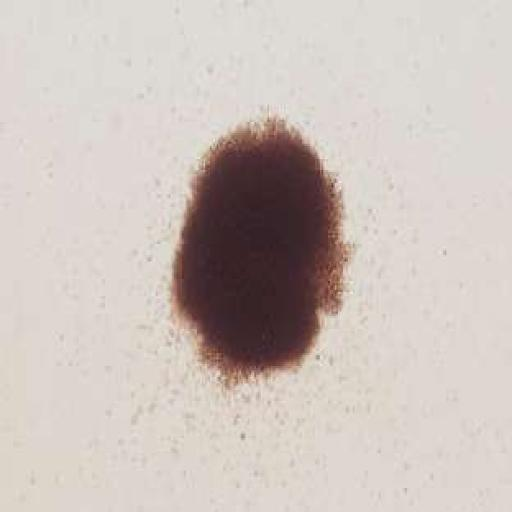CFU-GEMM: (174, 118, 346, 375)
